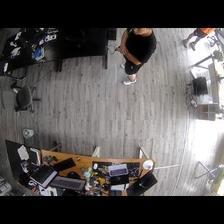normal: (110, 28, 156, 88), (183, 28, 215, 50)
